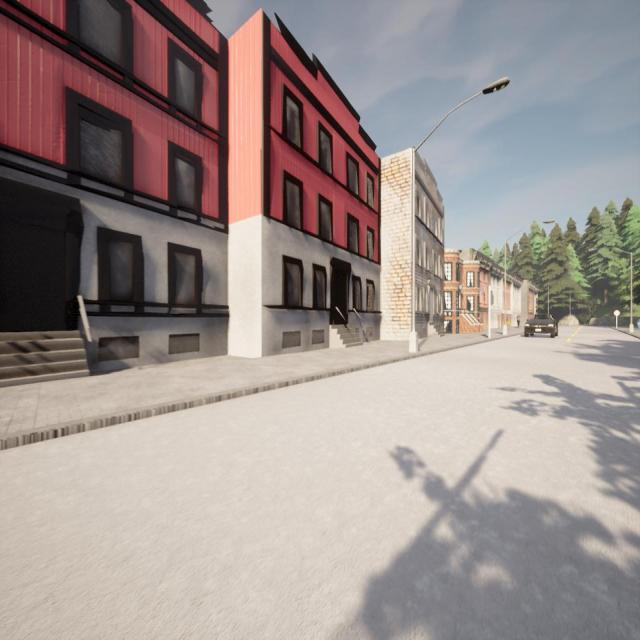Pedestrian: (516, 312, 521, 328), (506, 314, 510, 330)
Traffic_Signs: (613, 310, 620, 317)
Vehicle: (524, 314, 558, 338)
traffic_light: (491, 290, 494, 306)
